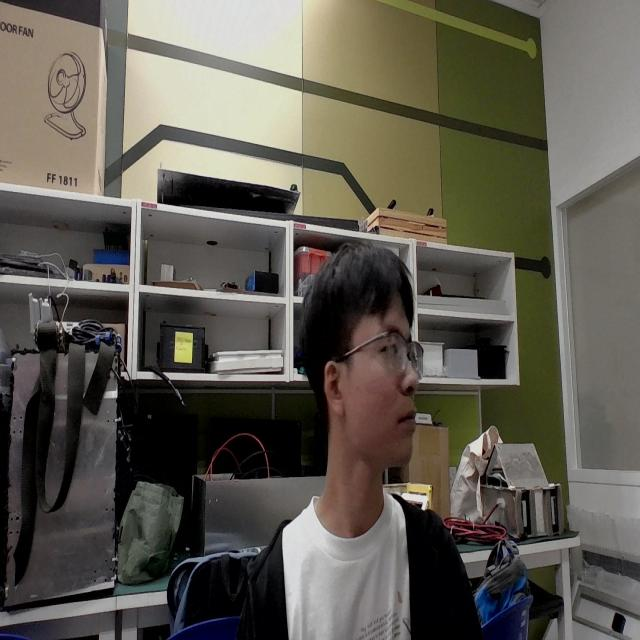Without Helmet: (273, 220, 450, 543)
